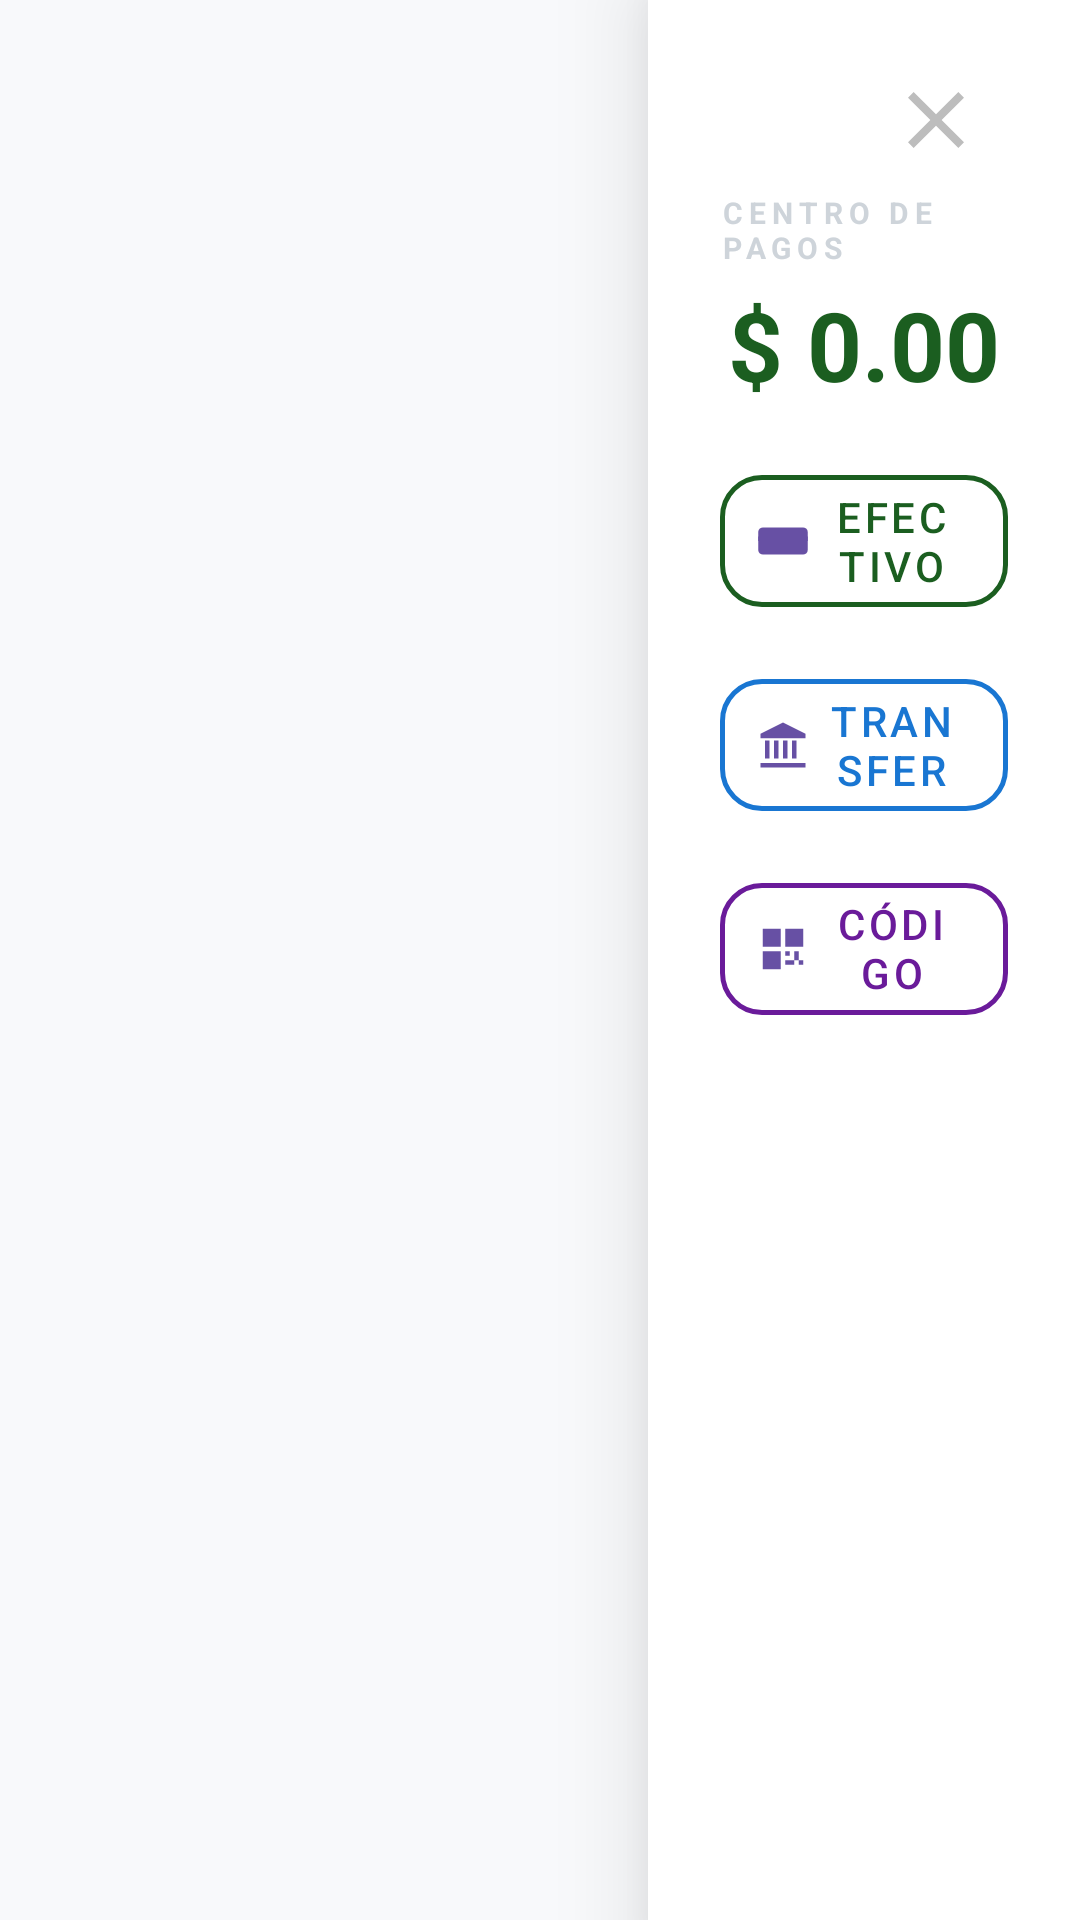

Point at icon controls on the screen. Image size 1080x1920, points as (x,y).
close: (936,120)
